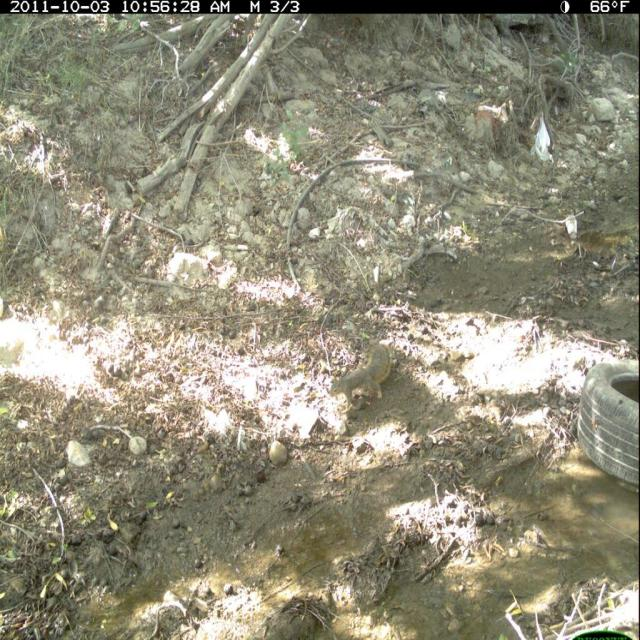squirrel: (323, 325, 403, 419)
